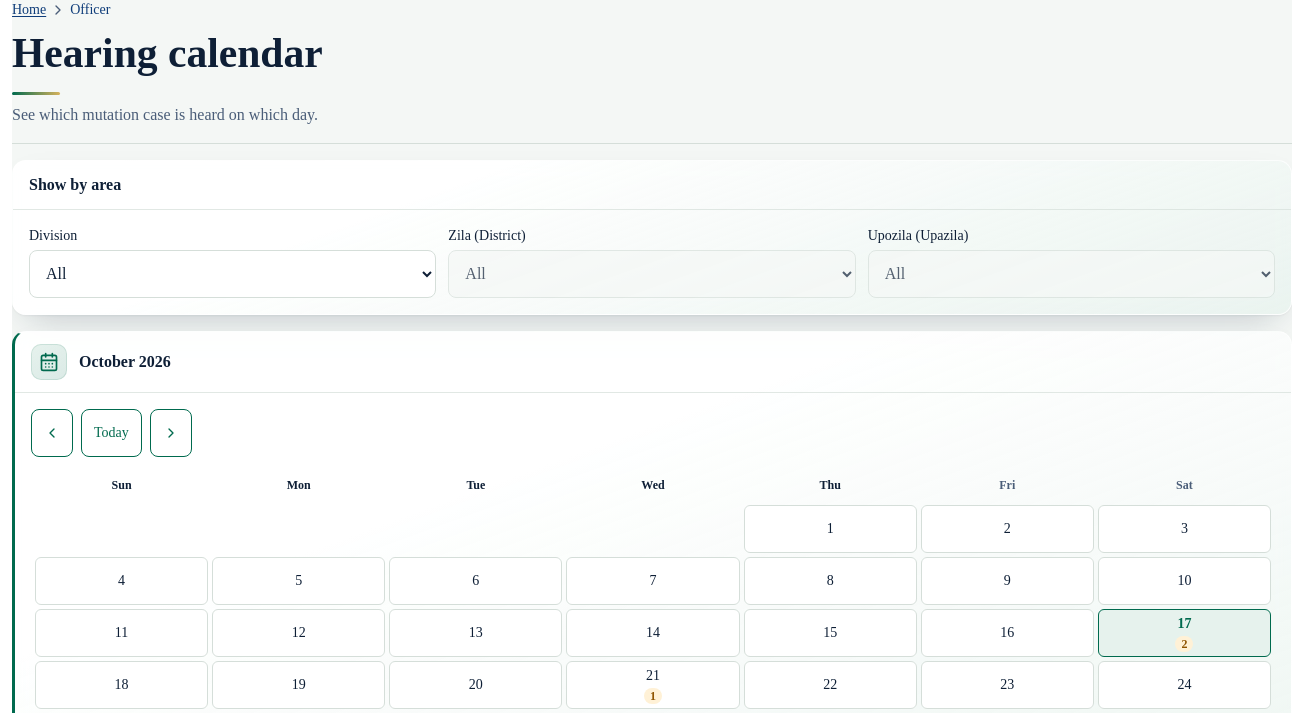
HearingCalendar › opens another day when it is clicked
The width and height of the screenshot is (1292, 713).
Click the button with test id "day-2026-10-21" at (653, 685), box [566,661,740,709]
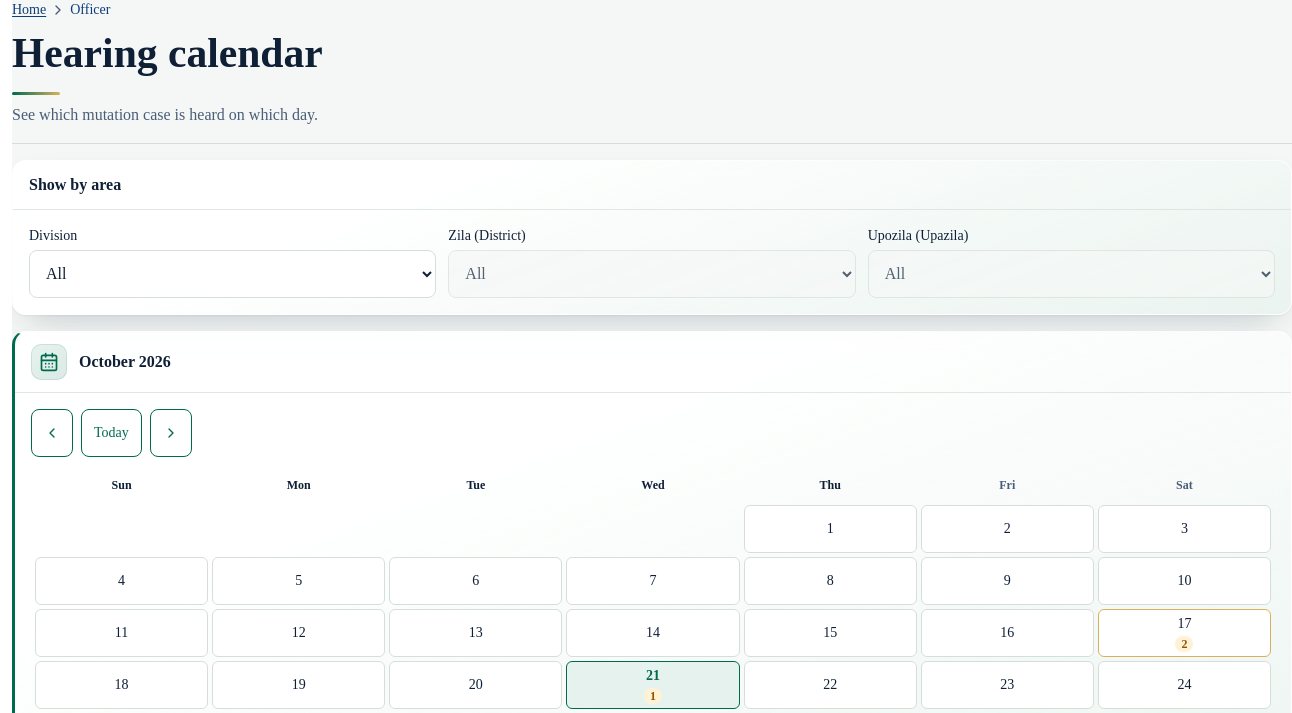
Expected: the button with test id "day-2026-10-21" is pressed, [566,661,740,709]
Click the button with test id "day-2026-10-05" at (299, 581), box [212,557,385,605]
(page scrolled)
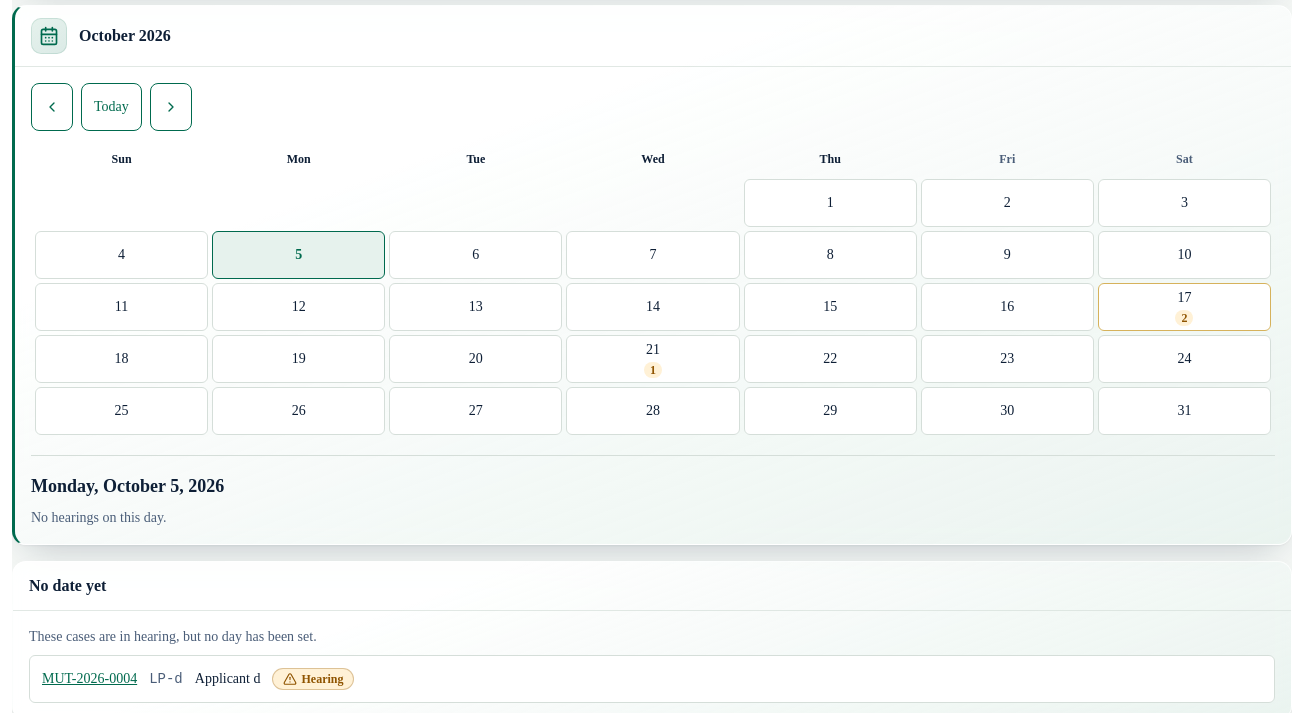
Expected: the text "No hearings on this day." is shown, [31,510,167,525]
